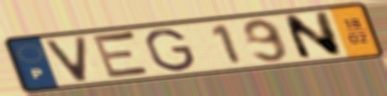1: (210, 23, 246, 65)
9: (241, 17, 290, 64)
E: (90, 29, 155, 81)
G: (143, 27, 198, 73)
N: (279, 9, 345, 62)
V: (42, 34, 90, 84)
